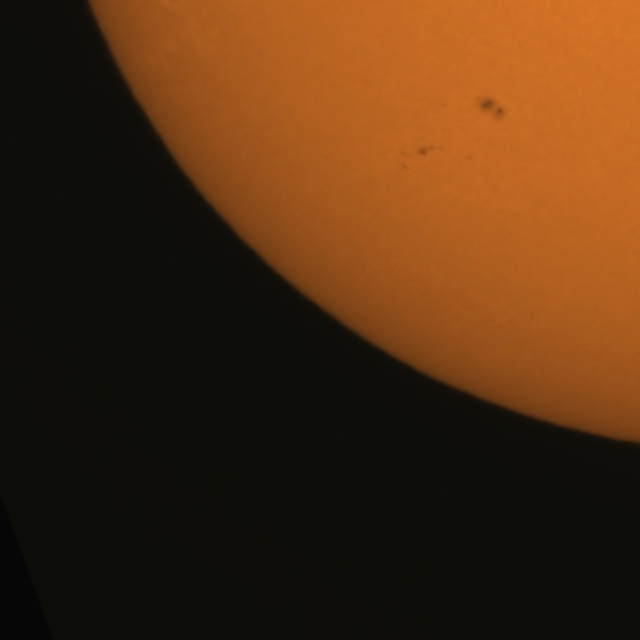sunspot: (398, 137, 445, 172), (475, 94, 508, 123), (464, 152, 474, 163)
